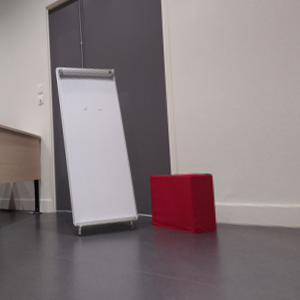big: (54, 66, 141, 228)
medium: (150, 173, 217, 232)
